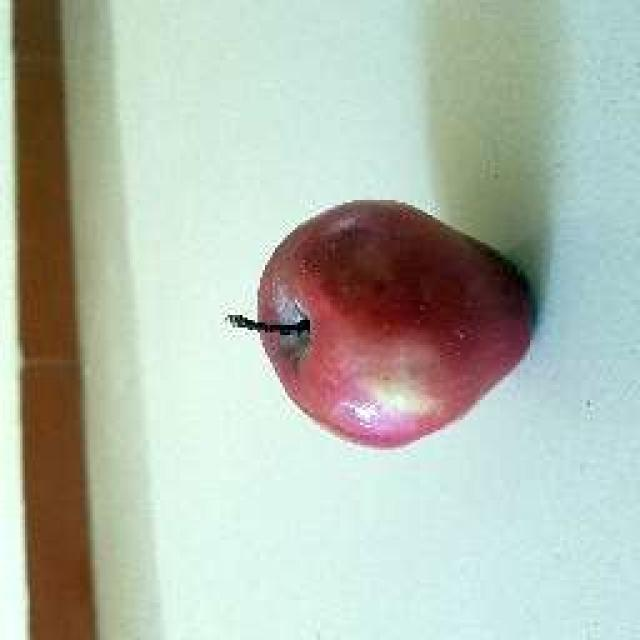Good_Apple: (228, 200, 532, 447)
